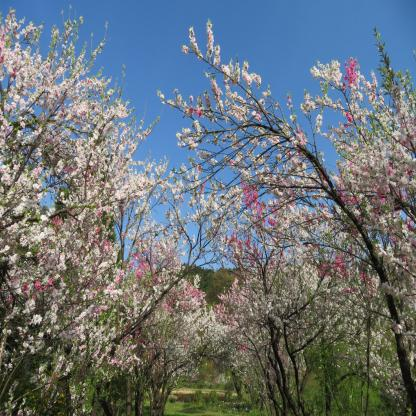Momo: (156, 13, 416, 394), (0, 3, 221, 416)
